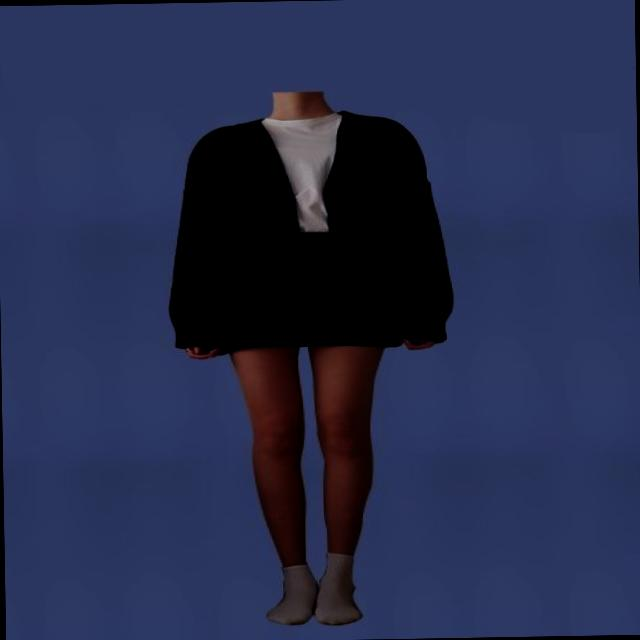cardigan: (166, 110, 458, 350)
skirt: (210, 230, 402, 348)
